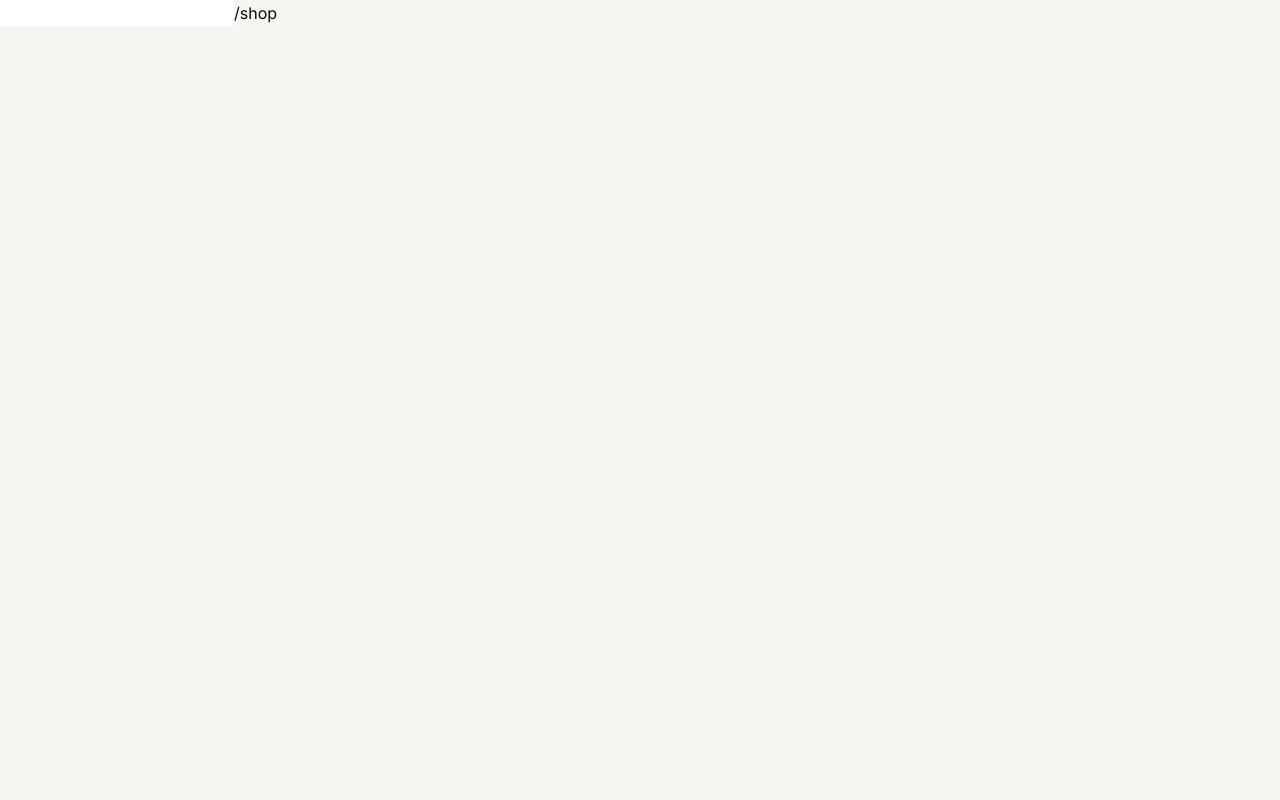
Test: CommandPalette › lists recent searches when blank and can clear them
Type keys "{Control>}k{/Control}"
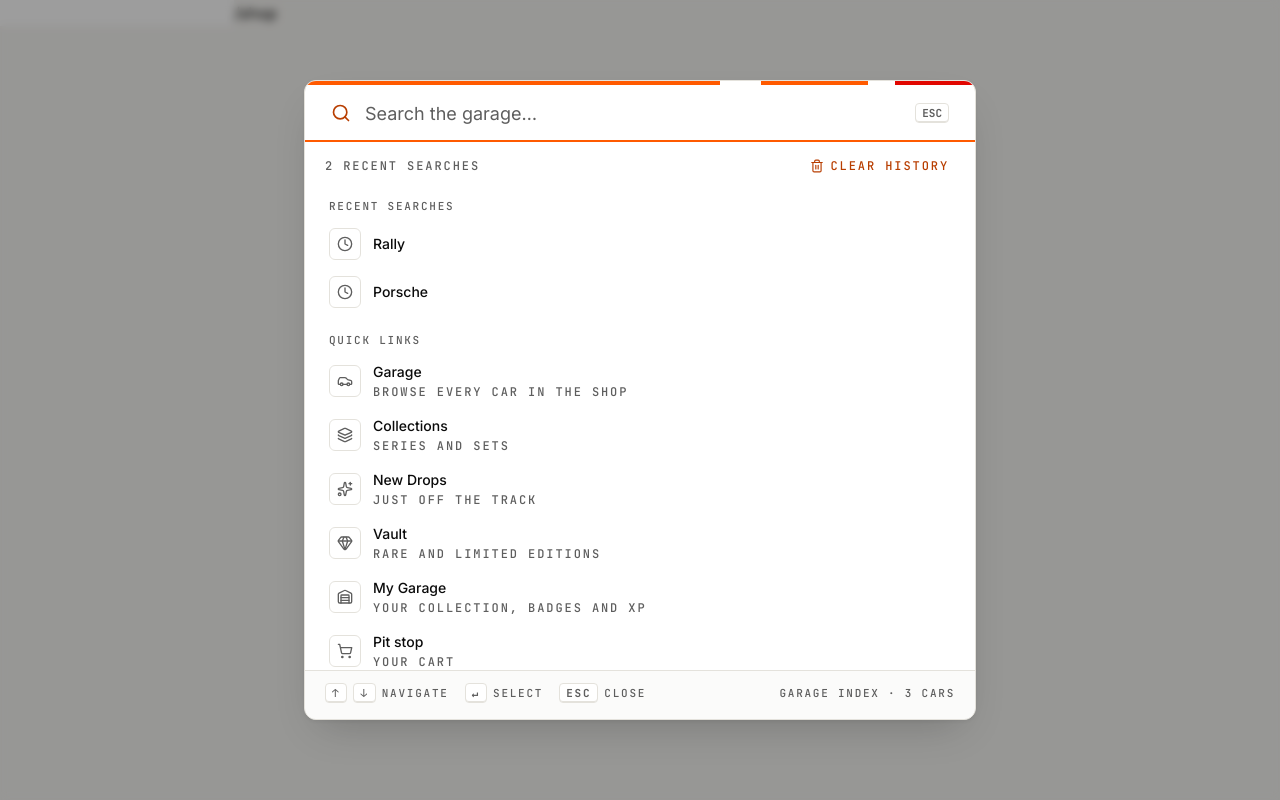
Expected: the options read "Rally", "Porsche", in this order, top-left (329, 228), bottom-right (405, 260); top-left (329, 276), bottom-right (428, 308)
Click the button "Clear history" at (880, 166), box top-left (804, 154), bottom-right (955, 178)
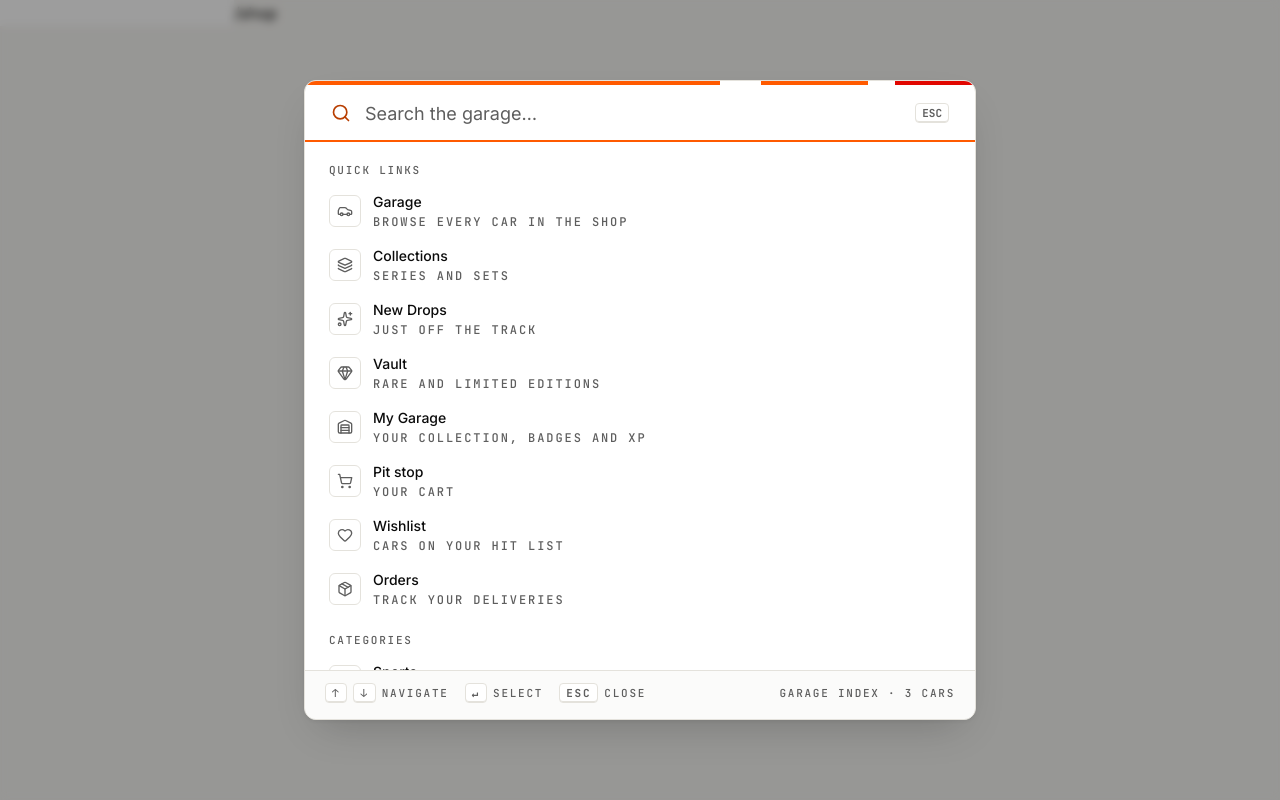
Expected: the text "recent searches" is gone
